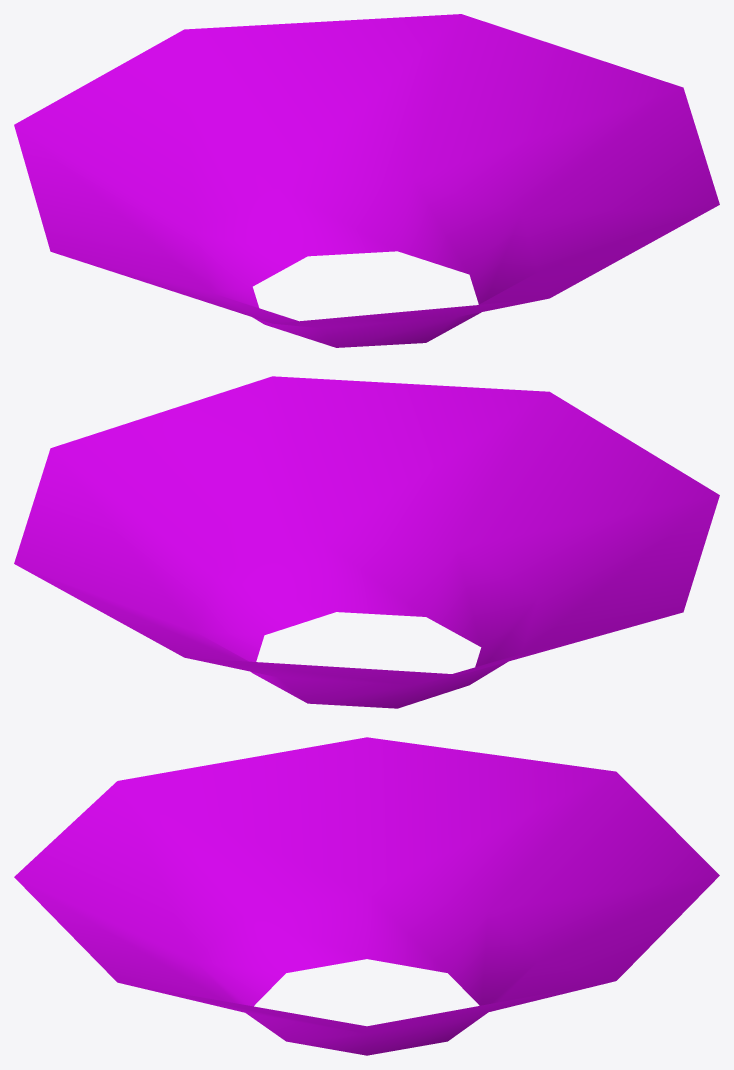
File: V_Flower_Petal_05.fbx
3 views of the same model, one above another, from view 1: azimuth 30°, elevation 25°; view 2: azimuth 150°, elevation 25°; view 3: azimuth 270°, elevation 25° (orthographic). The views are drawn at different scales.
Visible parts, largest first — view 1: V_Flower_Petal_05; view 2: V_Flower_Petal_05; view 3: V_Flower_Petal_05.
Part boxes in pixels (x1,y1,x2,y2): V_Flower_Petal_05: (14, 14, 719, 347); V_Flower_Petal_05: (14, 376, 719, 708); V_Flower_Petal_05: (14, 737, 719, 1055).
Bounding box in the file's own units: 114 × 23.55 × 114.
